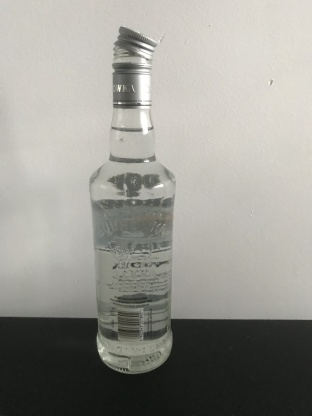nakretka: (110, 24, 158, 111)
